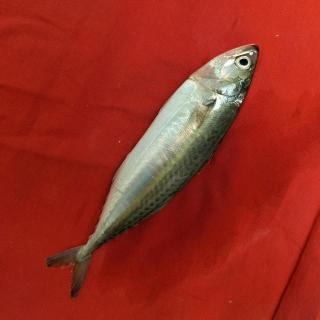Ikan: (46, 16, 265, 305)
